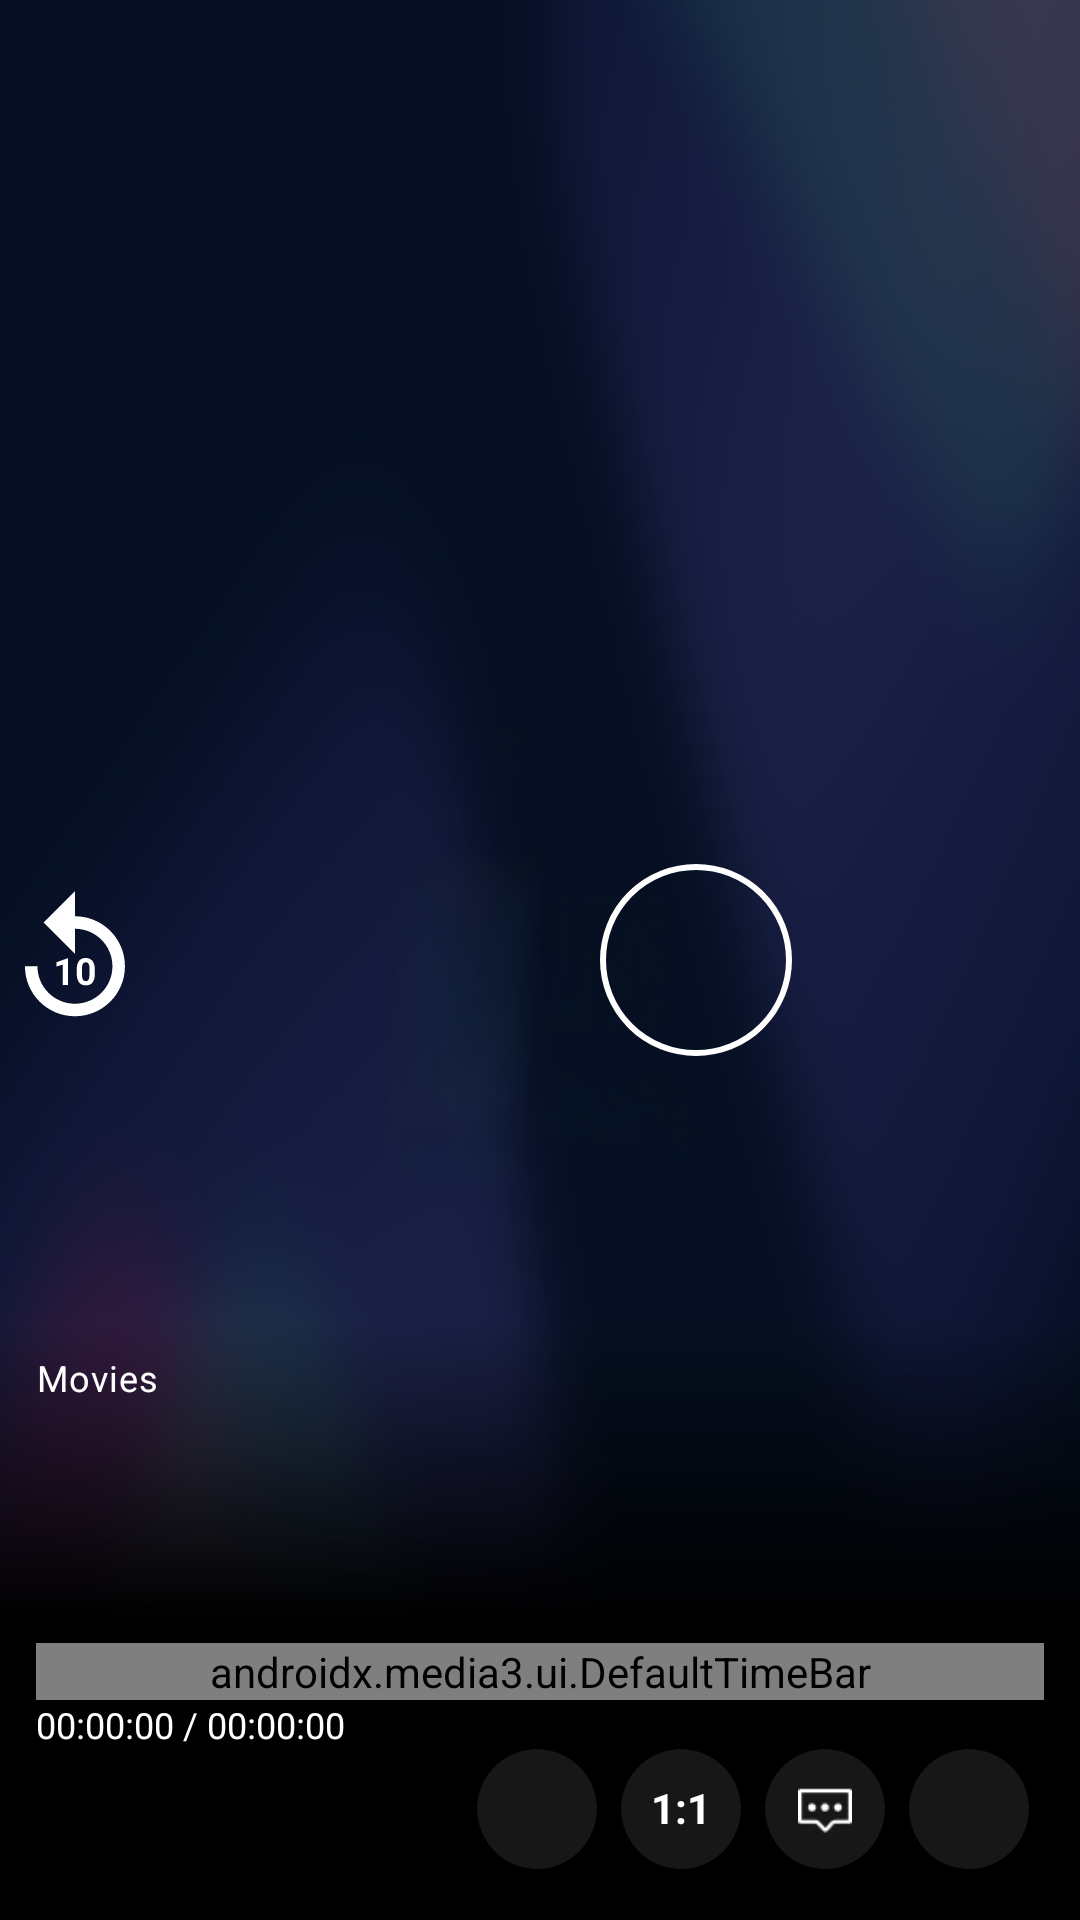

Named icons in this screenshot (1080*1920) and their centers, [x,y]:
audio subtitle: [825,1810]
replay back: [75,954]
